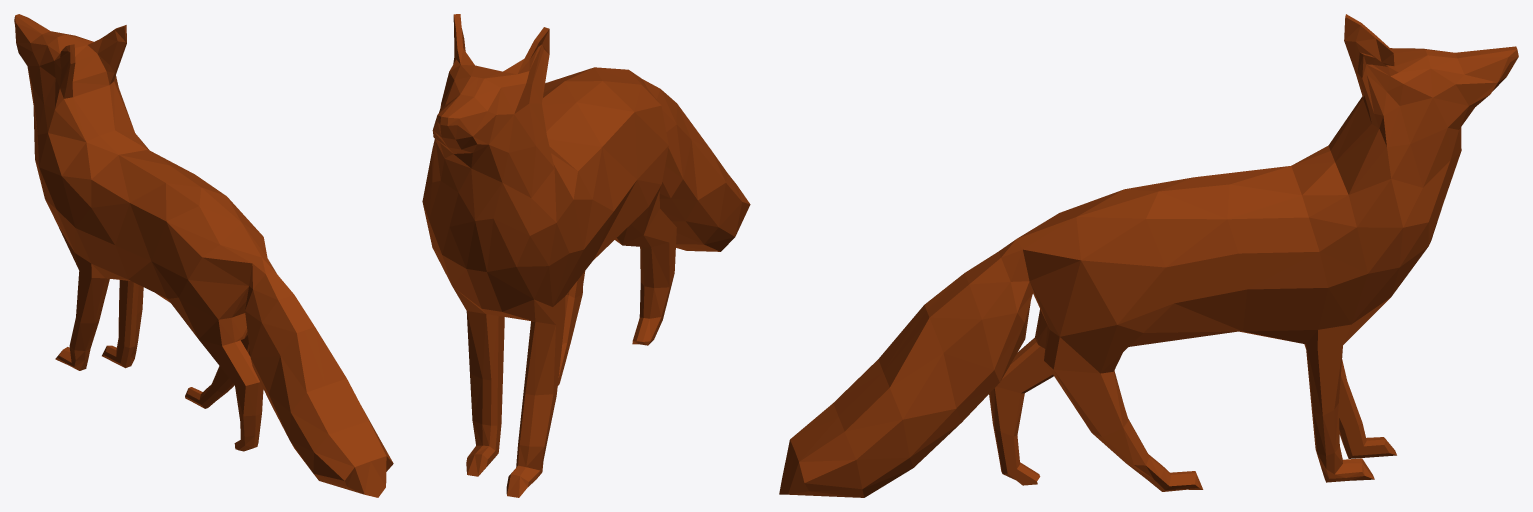
Rendered from foxT.obj.
3 renders of one model, left to right at view 1: azimuth 30°, elevation 25°; view 2: azimuth 150°, elevation 25°; view 3: azimuth 270°, elevation 25°, orthographic. The views are drawn at different scales.
Visible parts, largest first — view 1: Fox.001_Cube.001; view 2: Fox.001_Cube.001; view 3: Fox.001_Cube.001.
Part boxes in pixels (x1,y1,x2,y2): Fox.001_Cube.001: [14, 14, 393, 497]; Fox.001_Cube.001: [422, 14, 750, 497]; Fox.001_Cube.001: [779, 14, 1518, 497].
Size of the model in its own units: 3.37 by 7.68 by 11.87.
